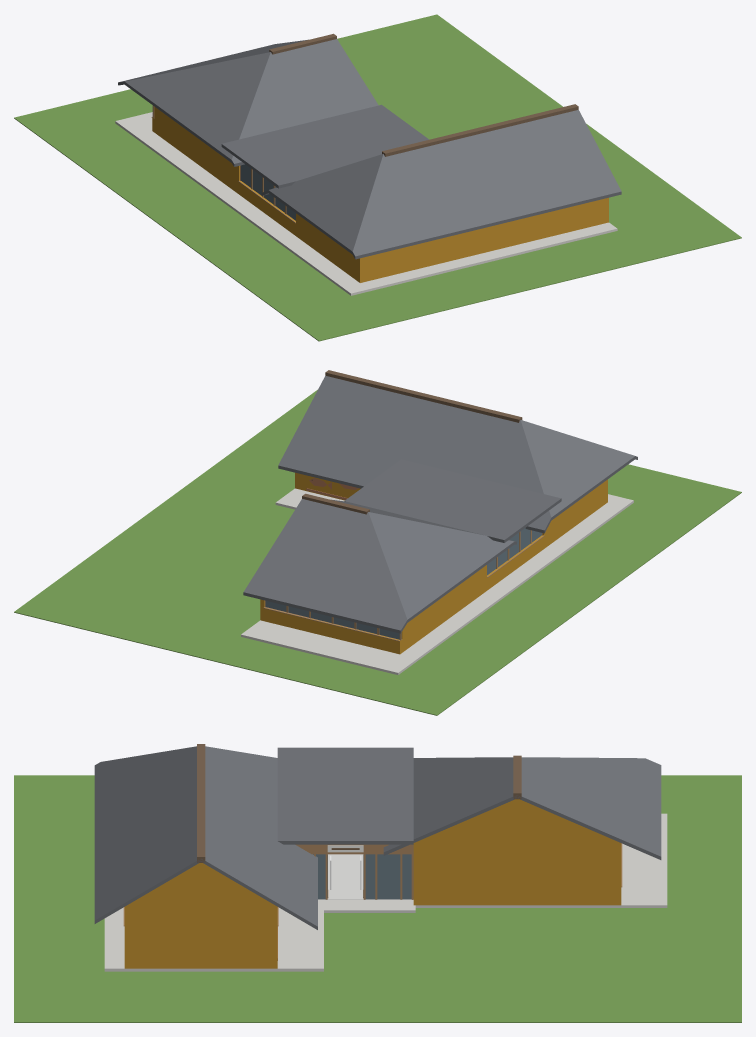
File: biblioteca.glb
3 renders of one model, top to bottom at view 1: azimuth 30°, elevation 25°; view 2: azimuth 150°, elevation 25°; view 3: azimuth 270°, elevation 25°, orthographic. The views are drawn at different scales.
Parts seen in each view (by area): view 1: Biblioteca; view 2: Biblioteca; view 3: Biblioteca.
Boxes of the visible parts, x1=… form: Biblioteca: x1=14, y1=14, x2=741, y2=341; Biblioteca: x1=14, y1=370, x2=741, y2=715; Biblioteca: x1=14, y1=744, x2=741, y2=1022.
Size of the model in its own units: 28.97 by 6.33 by 36.15.
